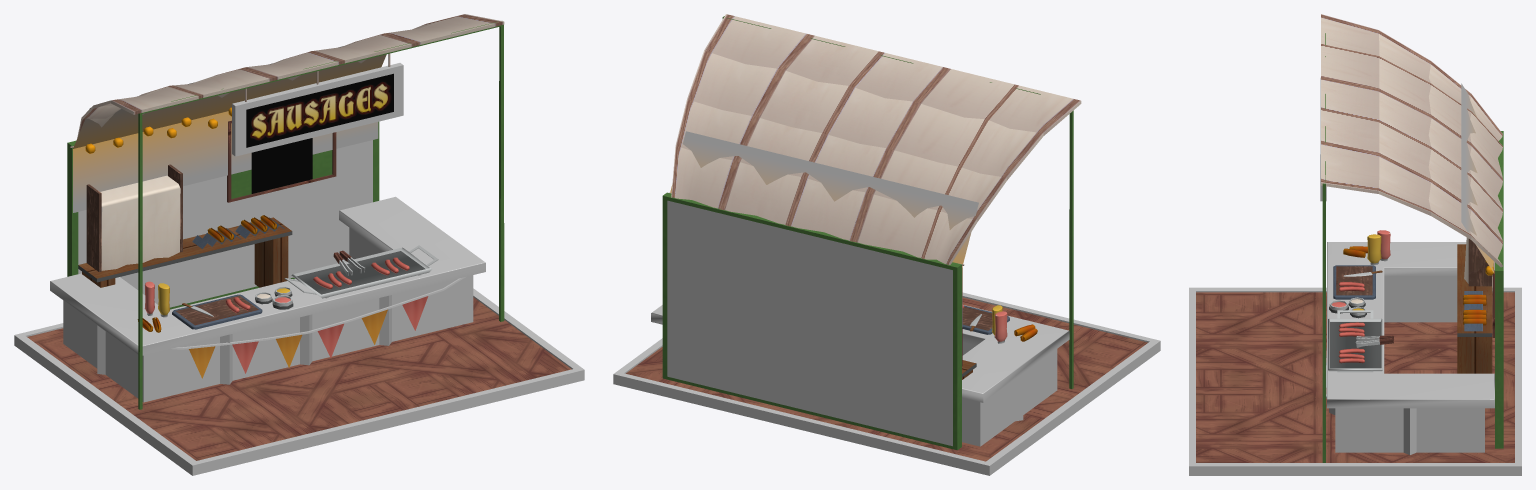
The model's file is Booth_Food02_Art.fbx.
The picture shows the model from 3 angles, left to right: view 1: azimuth 30°, elevation 25°; view 2: azimuth 150°, elevation 25°; view 3: azimuth 270°, elevation 25°; orthographic projection. The views are drawn at different scales.
Visible parts, largest first — view 1: Oktoberfest_Booth_Food02; view 2: Oktoberfest_Booth_Food02; view 3: Oktoberfest_Booth_Food02.
Part boxes in pixels (<box>): Oktoberfest_Booth_Food02: <box>14,14,584,475</box>; Oktoberfest_Booth_Food02: <box>613,14,1160,475</box>; Oktoberfest_Booth_Food02: <box>1189,14,1521,475</box>.
Size of the model in its own units: 656 by 495 by 517.
